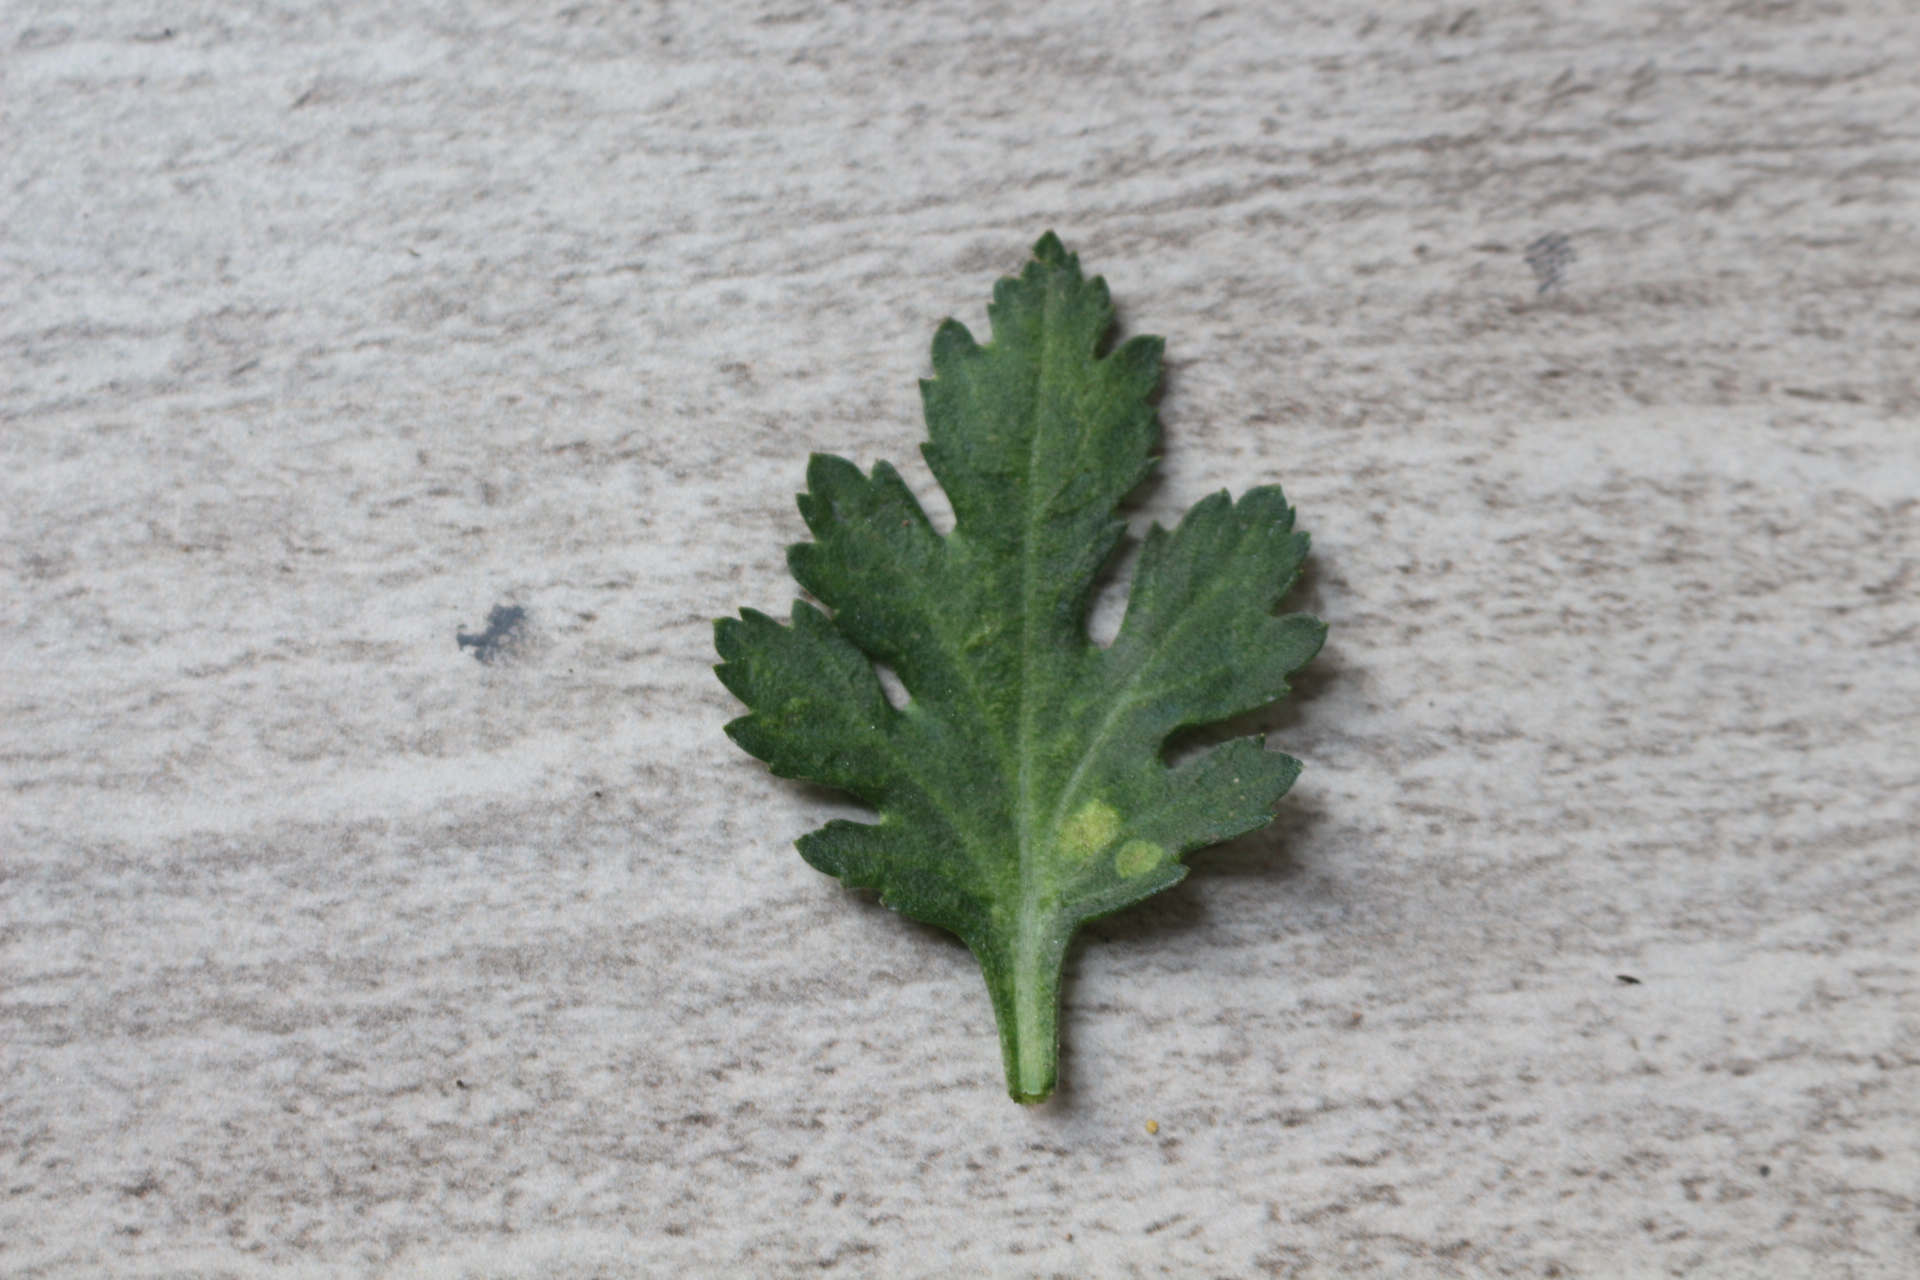namsung: (1060, 799, 1113, 861), (1106, 837, 1166, 886)
